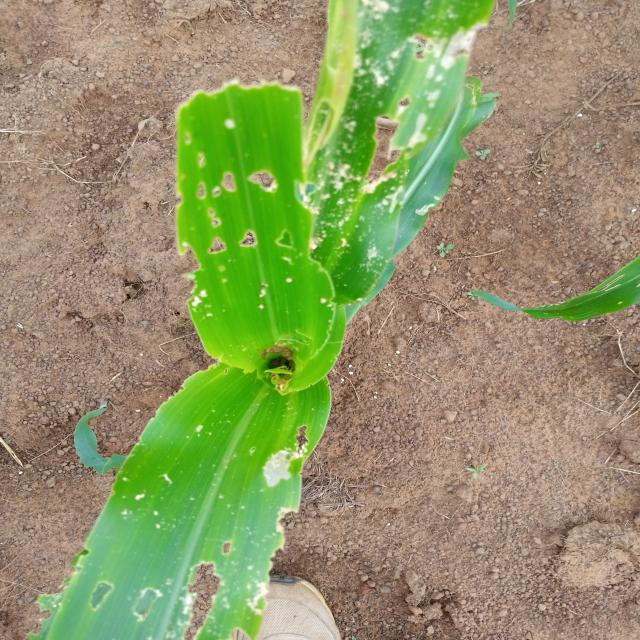fall-armyworm-egg: (83, 425, 217, 548), (279, 138, 405, 248), (332, 3, 417, 90), (150, 271, 274, 329)
fall-armyworm-larval-damage: (178, 130, 306, 216), (168, 535, 260, 640), (358, 107, 421, 207), (262, 470, 316, 577), (77, 572, 173, 632), (200, 220, 292, 253), (267, 212, 325, 260), (286, 414, 316, 448), (405, 34, 442, 57)
